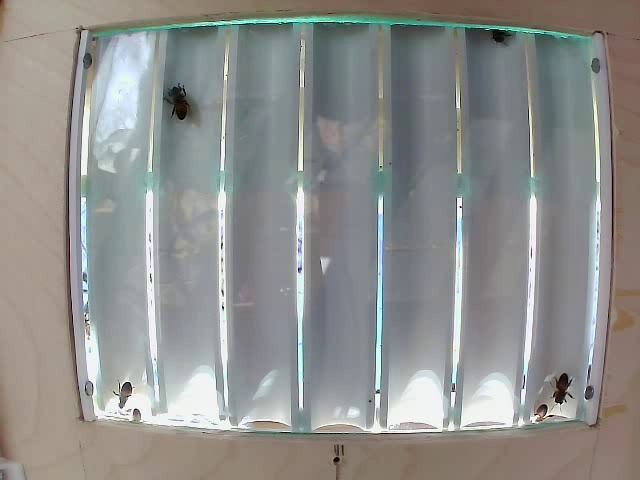bee: (167, 83, 202, 128)
